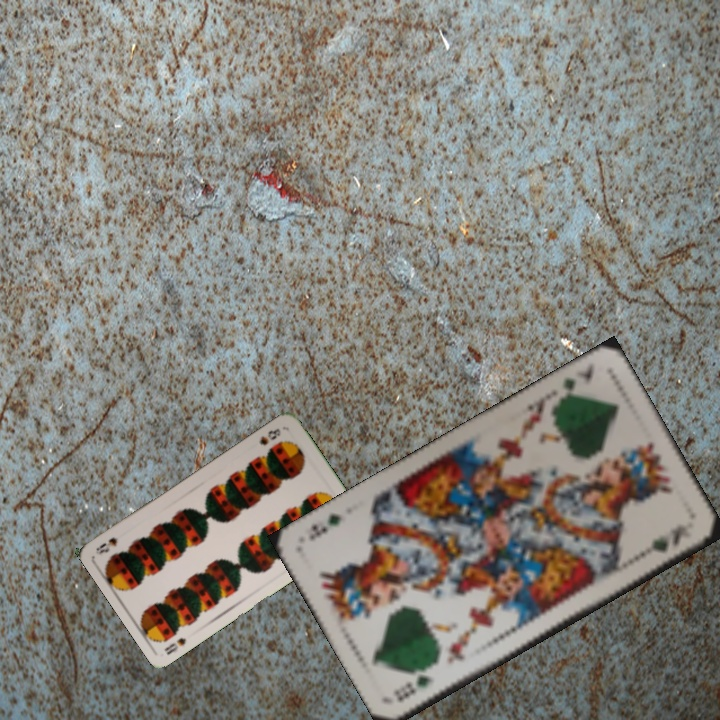GK: (553, 360, 597, 406), (389, 670, 433, 705)
S8: (160, 633, 189, 657), (255, 424, 283, 448)
